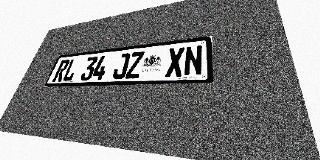3: (79, 56, 98, 81)
4: (91, 55, 110, 80)
J: (111, 53, 131, 79)
L: (61, 58, 80, 82)
N: (183, 45, 203, 76)
R: (52, 59, 70, 82)
X: (165, 47, 185, 77)
Z: (125, 51, 144, 79)
